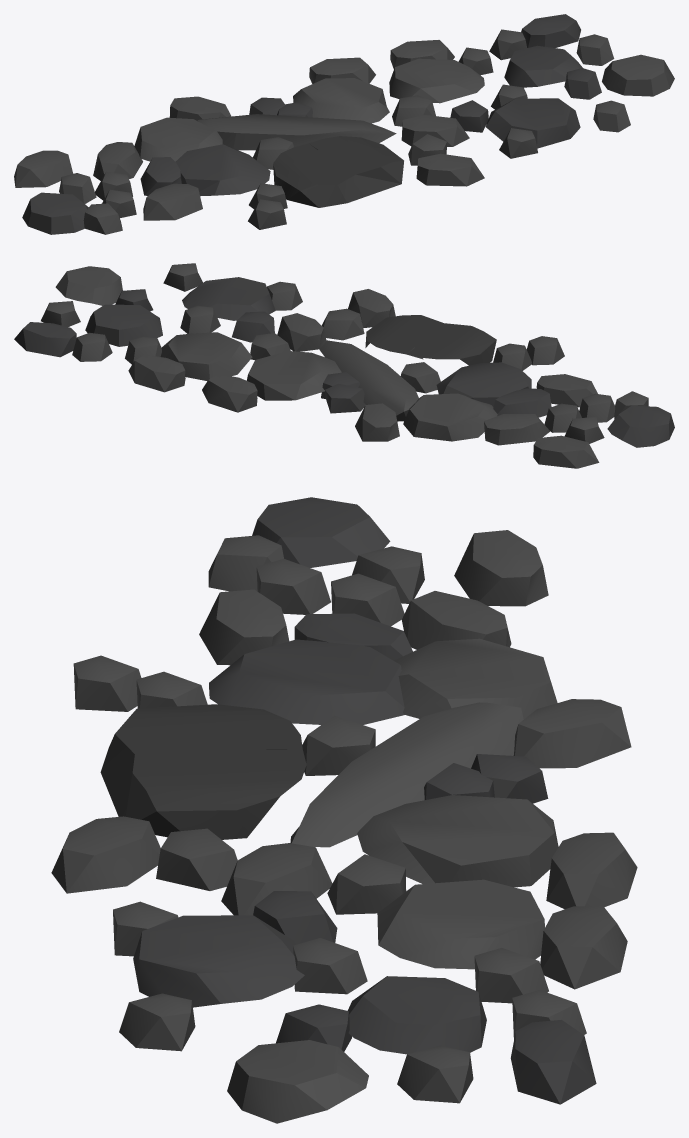
File: ea_swamp_stones_04a_pre_43_lev1.glb
3 renders of one model, top to bottom at view 1: azimuth 30°, elevation 25°; view 2: azimuth 150°, elevation 25°; view 3: azimuth 270°, elevation 25°, orthographic. The views are drawn at different scales.
Visible parts, largest first — view 1: ea_swamp_stones_04a_pre_43_lev1; view 2: ea_swamp_stones_04a_pre_43_lev1; view 3: ea_swamp_stones_04a_pre_43_lev1.
Boxes of the visible parts, x1,y1,x2,y2 form: ea_swamp_stones_04a_pre_43_lev1: (14, 14, 674, 234); ea_swamp_stones_04a_pre_43_lev1: (14, 263, 674, 468); ea_swamp_stones_04a_pre_43_lev1: (51, 497, 637, 1123).
Bounding box in the file's own units: 5.61 × 0.168 × 2.32.
1 material, 1 textured.
